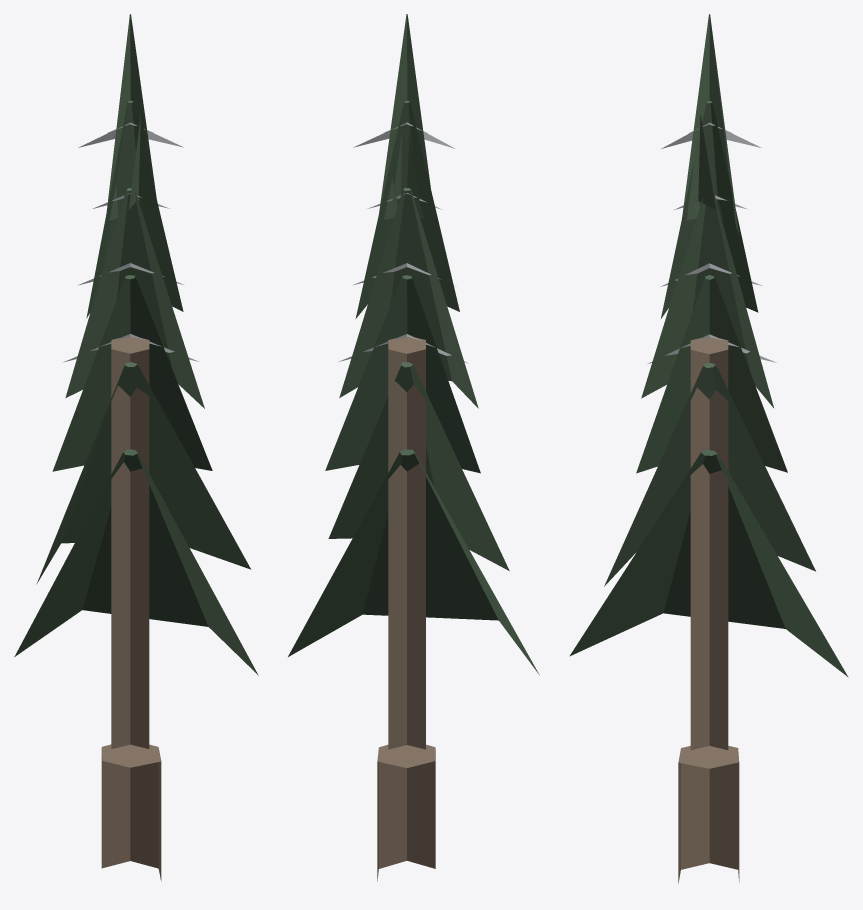
File: shu.lengshan__autumn.glb
3 views of the same model, side by side, from view 1: azimuth 30°, elevation 25°; view 2: azimuth 150°, elevation 25°; view 3: azimuth 270°, elevation 25° (orthographic).
Parts seen in each view (by area): view 1: shu.lengshan__autumn; view 2: shu.lengshan__autumn; view 3: shu.lengshan__autumn.
Part boxes in pixels (<box>): shu.lengshan__autumn: <box>14,14,258,881</box>; shu.lengshan__autumn: <box>288,14,539,881</box>; shu.lengshan__autumn: <box>569,14,848,883</box>.
Bounding box in the file's own units: 5.6 × 21.95 × 6.45.
